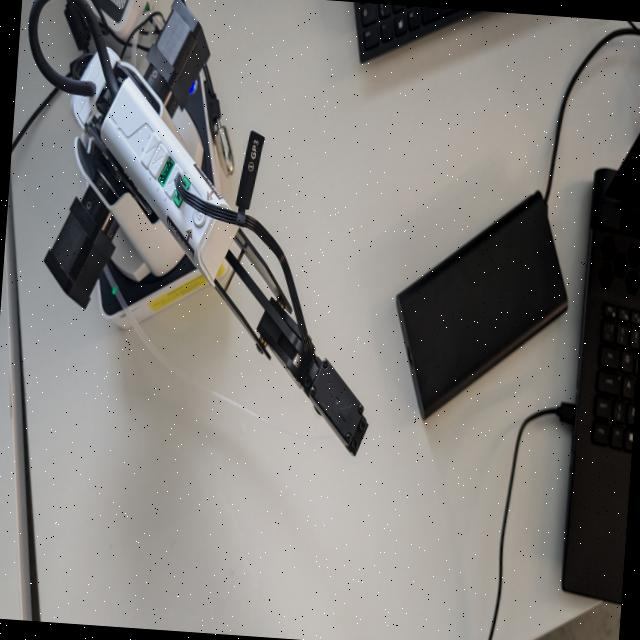Robot-end-effector-HF8z: (303, 350, 375, 458)
